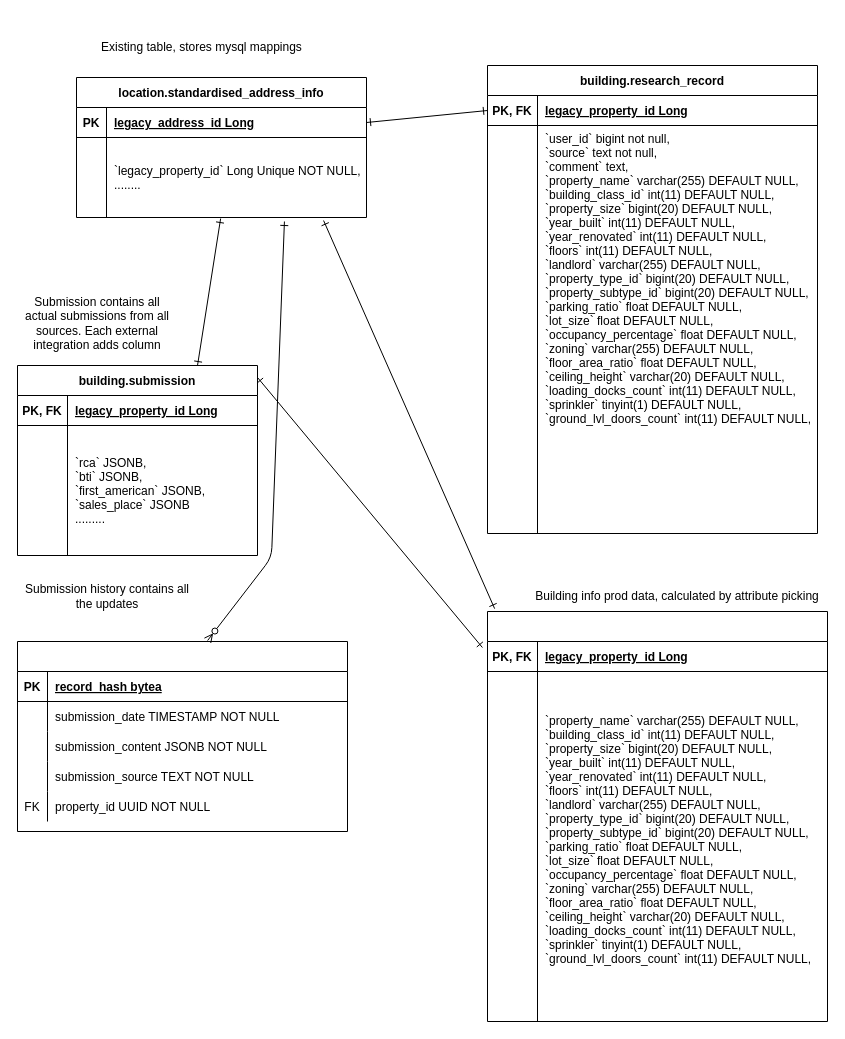
Image size: 845x1039. Some labels were removed from this diagram. Each missing label, with the box of its shape:
building.building_info: (486, 610, 828, 1022)
building.submission_history: (16, 640, 348, 832)
